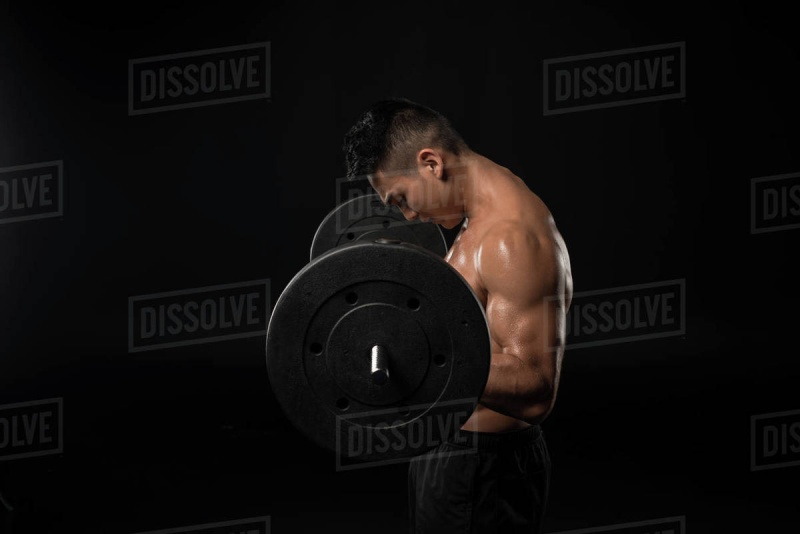barbell: (259, 240, 494, 471)
